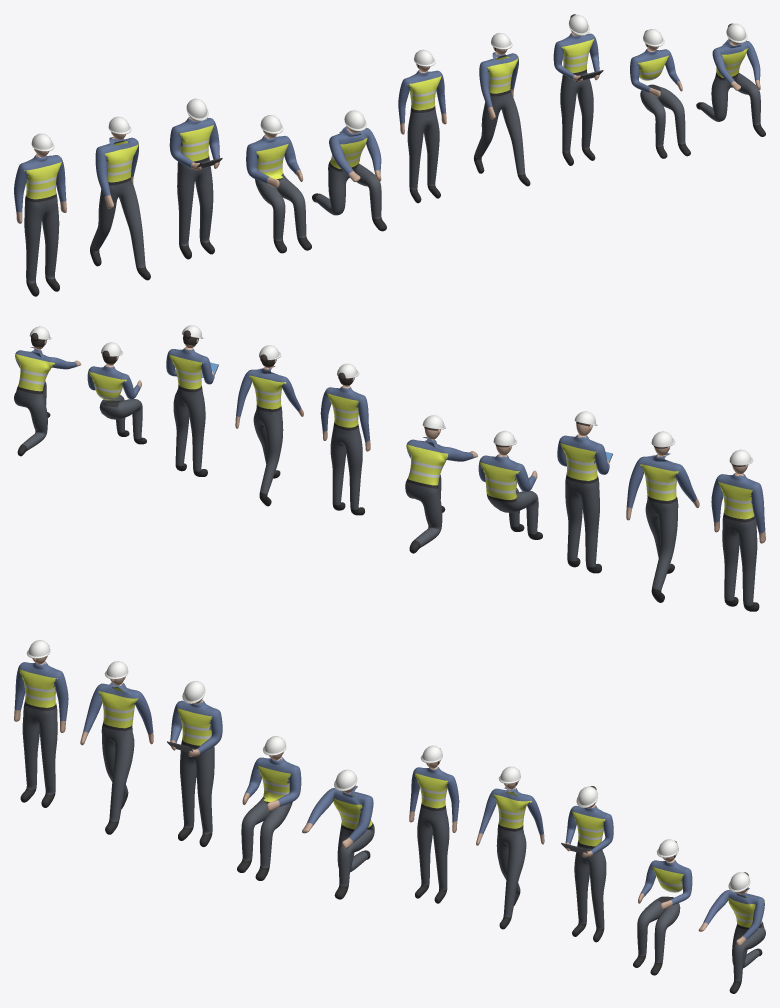
The model's file is people.glb.
The picture shows the model from 3 angles, top to bottom: view 1: azimuth 30°, elevation 25°; view 2: azimuth 150°, elevation 25°; view 3: azimuth 330°, elevation 25°; orthographic projection. The views are drawn at different scales.
Visible parts, largest first — view 1: body, body.002, body.001, body.005, body.003, body.007, body.004, body.006, body.008, body.009; view 2: body, body.002, body.001, body.005, body.007, body.006, body.004, body.003, body.009, body.008; view 3: body, body.002, body.001, body.005, body.003, body.007, body.006, body.004, body.008, body.009.
Boxes of the visible parts, <box> form: body: <box>14,149,66,296</box>; body.002: <box>169,115,219,259</box>; body.001: <box>90,132,150,280</box>; body.005: <box>398,64,446,203</box>; body.003: <box>246,130,311,253</box>; body.007: <box>553,14,599,165</box>; body.004: <box>312,126,386,231</box>; body.006: <box>473,47,530,186</box>; body.008: <box>630,30,690,158</box>; body.009: <box>696,23,765,136</box>; body: <box>711,464,765,611</box>; body.002: <box>557,422,609,573</box>; body.001: <box>626,446,699,602</box>; body.005: <box>320,372,370,515</box>; body.007: <box>166,330,214,476</box>; body.006: <box>235,354,303,506</box>; body.004: <box>405,427,477,553</box>; body.003: <box>478,444,542,539</box>; body.009: <box>14,333,81,456</box>; body.008: <box>87,350,146,444</box>; body: <box>14,656,68,807</box>; body.002: <box>170,697,222,846</box>; body.001: <box>80,677,153,834</box>; body.005: <box>409,748,459,903</box>; body.003: <box>237,752,301,880</box>; body.007: <box>565,786,613,942</box>; body.006: <box>476,781,544,929</box>; body.004: <box>302,785,374,899</box>; body.008: <box>633,841,692,975</box>; body.009: <box>698,872,765,993</box>.
Bounding box in the file's own units: 8.64 × 1.76 × 1.09.
